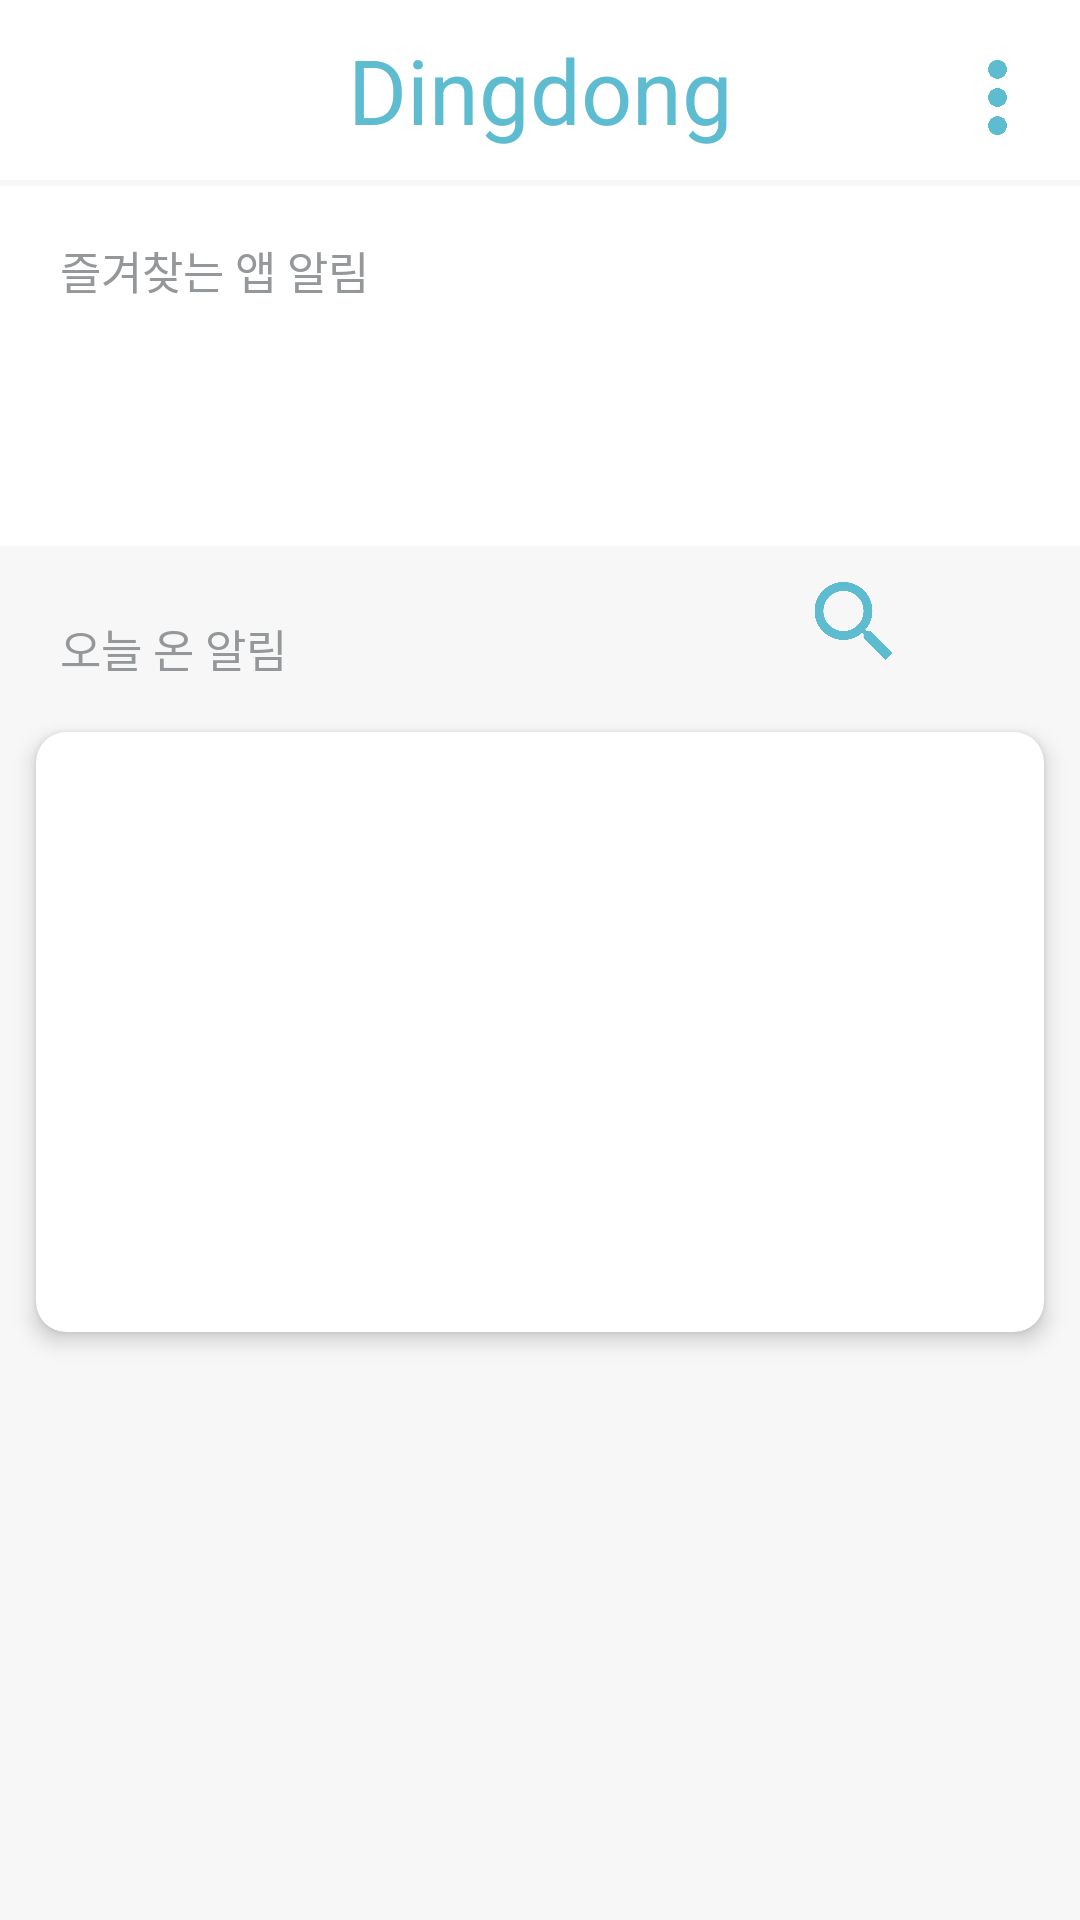

Icon click points for this 1080*1920 phone screenshot, format point (x, y):
menu: point (997, 97)
search: point (853, 621)
